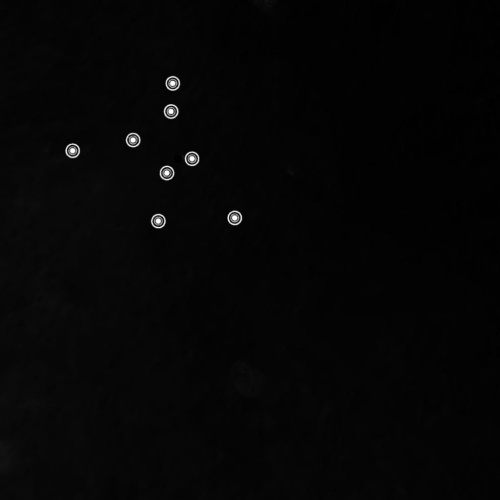hercules: (61, 71, 248, 235)
